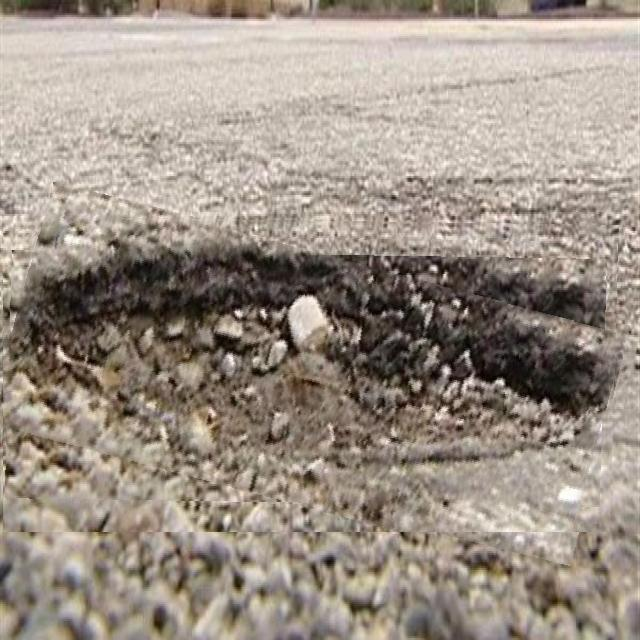Pothole: (3, 216, 620, 532)
